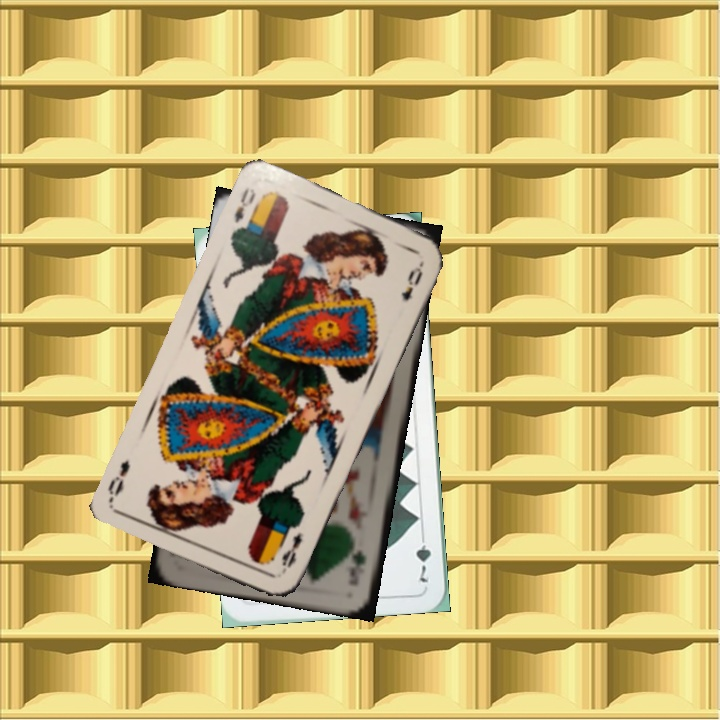EO: (277, 528, 305, 577), (230, 183, 258, 226)
G7: (411, 527, 434, 585)
GK: (345, 546, 369, 581)
